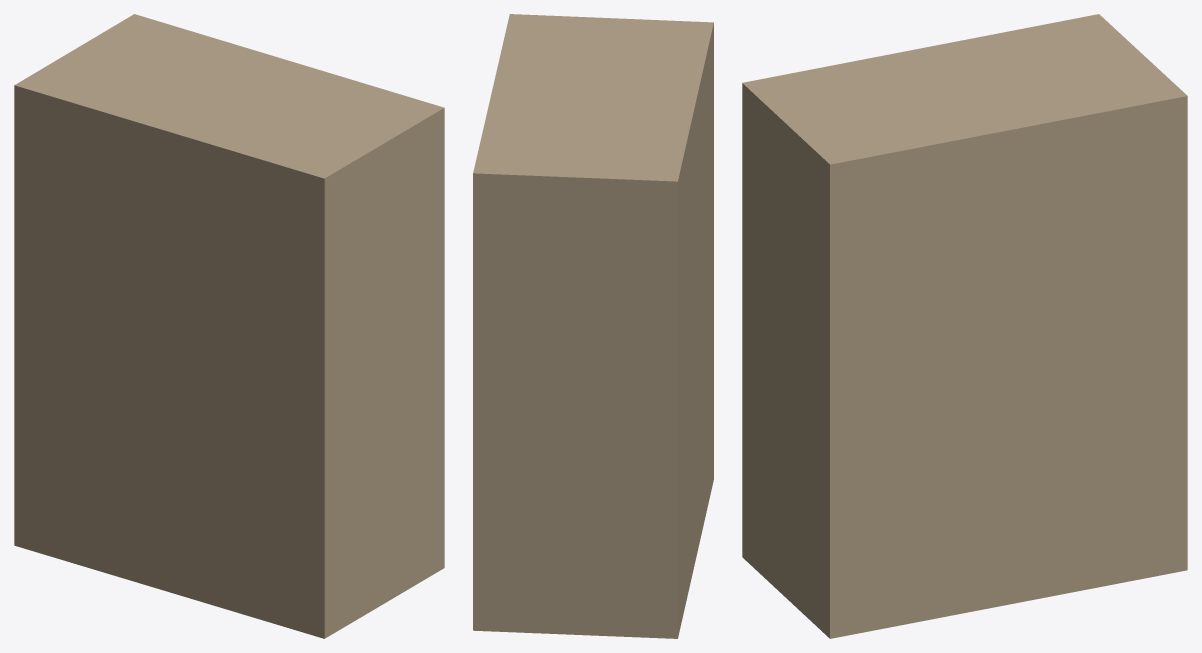
File: bld_393484289.dae
3 renders of one model, left to right at view 1: azimuth 30°, elevation 25°; view 2: azimuth 150°, elevation 25°; view 3: azimuth 270°, elevation 25°, orthographic. The views are drawn at different scales.
Visible parts, largest first — view 1: bld_393484289; view 2: bld_393484289; view 3: bld_393484289.
Boxes of the visible parts, x1=… form: bld_393484289: x1=14, y1=14, x2=444, y2=638; bld_393484289: x1=473, y1=14, x2=713, y2=638; bld_393484289: x1=742, y1=14, x2=1187, y2=638.
Size of the model in its own units: 5.45 by 6.81 by 8.
